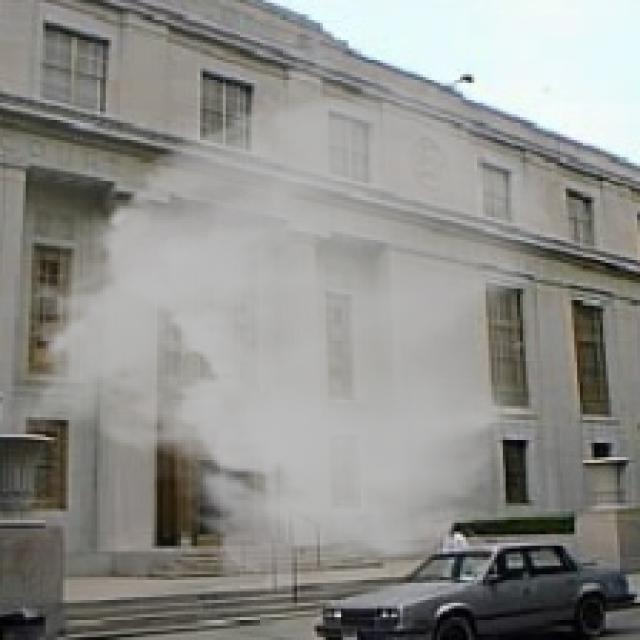Smoke: (6, 45, 560, 598)
